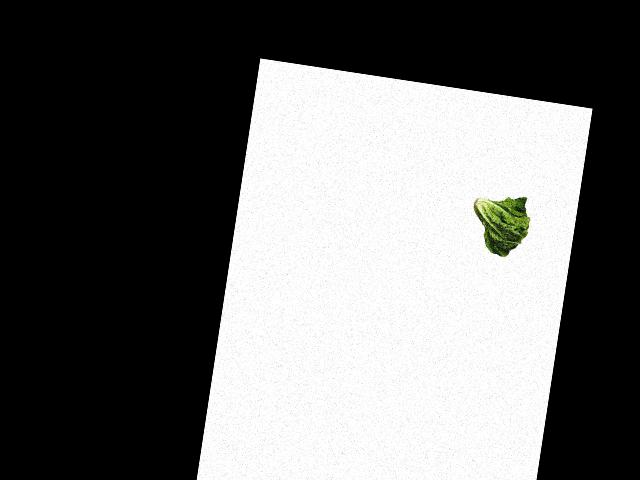lettuce: (463, 187, 535, 261)
